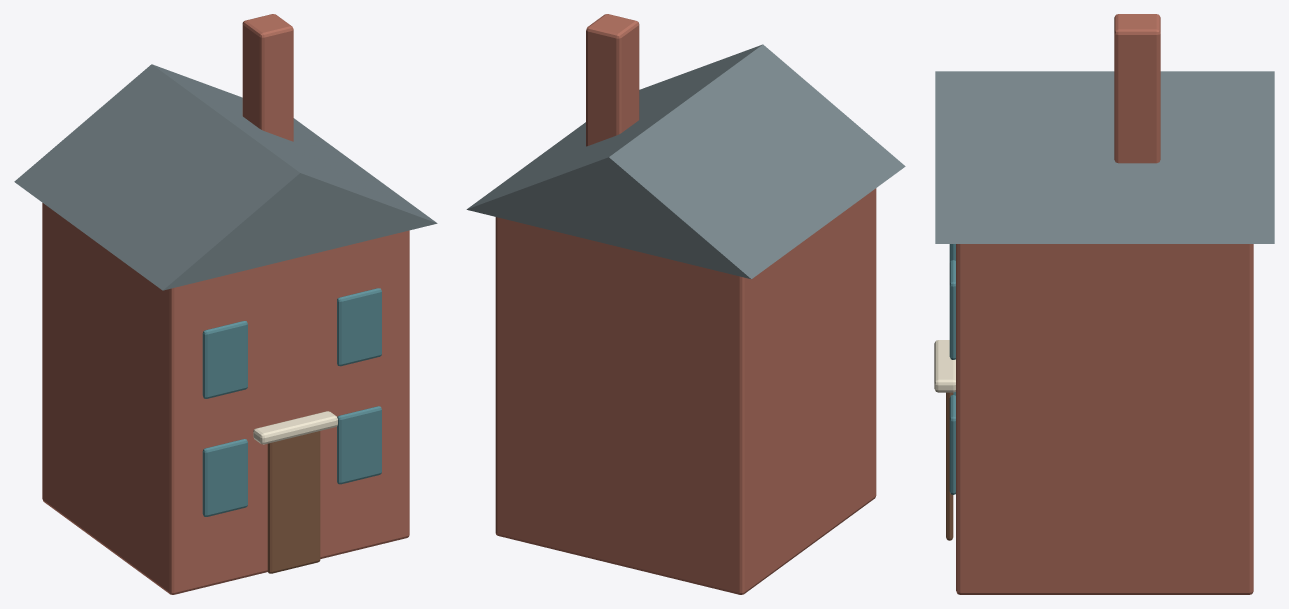
File: townhouse.glb
3 views of the same model, side by side, from view 1: azimuth 30°, elevation 25°; view 2: azimuth 150°, elevation 25°; view 3: azimuth 270°, elevation 25° (orthographic). The views are drawn at different scales.
Parts seen in each view (by area): view 1: townhouse_brick, townhouse_tile, townhouse_glass, townhouse_timber, townhouse_ivory; view 2: townhouse_brick, townhouse_tile; view 3: townhouse_brick, townhouse_tile, townhouse_glass, townhouse_ivory, townhouse_timber.
Boxes of the visible parts, x1=… form: townhouse_brick: x1=42, y1=14, x2=409, y2=594; townhouse_tile: x1=14, y1=64, x2=437, y2=290; townhouse_glass: x1=202, y1=288, x2=381, y2=516; townhouse_timber: x1=267, y1=431, x2=320, y2=573; townhouse_ivory: x1=253, y1=411, x2=337, y2=444; townhouse_brick: x1=495, y1=14, x2=876, y2=594; townhouse_tile: x1=466, y1=44, x2=905, y2=279; townhouse_brick: x1=956, y1=14, x2=1253, y2=594; townhouse_tile: x1=935, y1=71, x2=1274, y2=243; townhouse_glass: x1=949, y1=244, x2=955, y2=494; townhouse_ivory: x1=934, y1=340, x2=955, y2=392; townhouse_timber: x1=946, y1=392, x2=953, y2=540.
Size of the model in its own units: 3.9 by 6.4 by 3.66.
